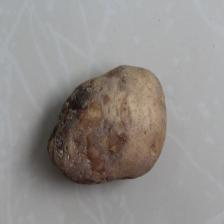Diseased-fungal potato: (47, 62, 167, 185)
